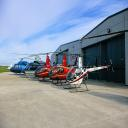helicopter: (65, 52, 119, 97), (48, 53, 82, 89), (33, 52, 60, 85), (7, 52, 34, 83), (21, 53, 45, 84), (5, 59, 15, 73)
